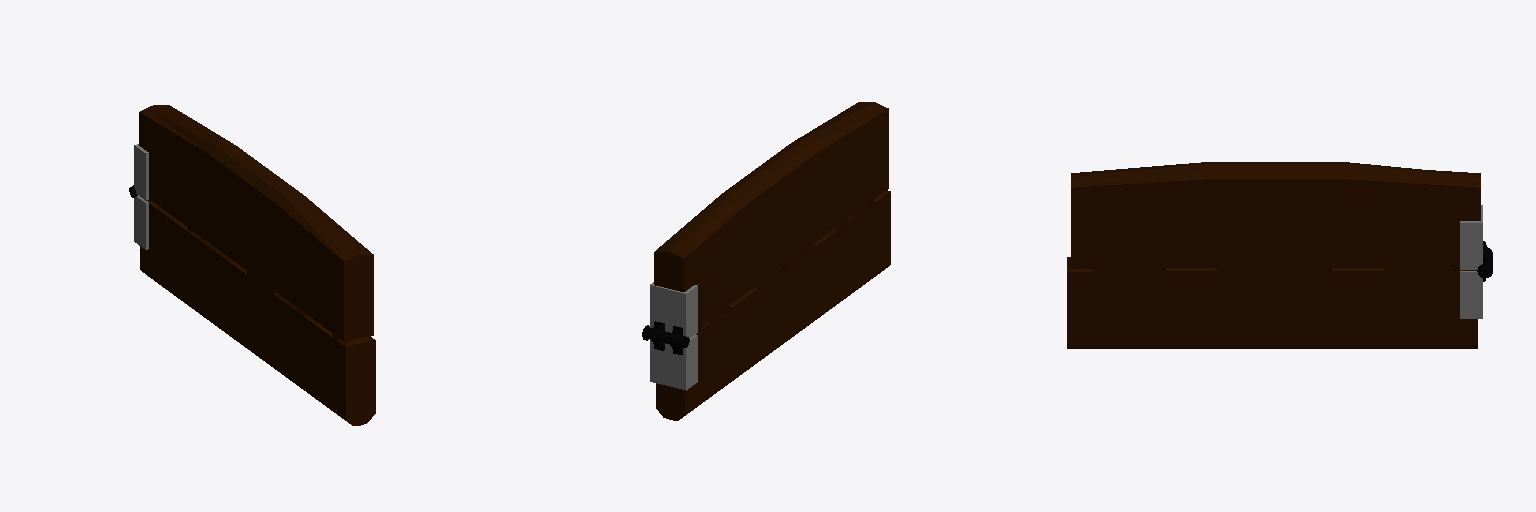
Rendered from Stockade.obj.
3 renders of one model, left to right at view 1: azimuth 30°, elevation 25°; view 2: azimuth 150°, elevation 25°; view 3: azimuth 270°, elevation 25°, orthographic.
Parts seen in each view (by area): view 1: pCube4, pCube6, pCube5, pCube7; view 2: pCube4, pCube6, pCube5, pCube7, pCylinder4; view 3: pCube4, pCube6, pCube5, pCube7.
Part boxes in pixels (x1,y1,x2,y2): pCube4: (139, 105, 373, 341); pCube6: (140, 199, 375, 425); pCube5: (134, 144, 148, 200); pCube7: (134, 195, 148, 249); pCube4: (654, 102, 888, 327); pCube6: (656, 190, 890, 420); pCube5: (650, 282, 697, 338); pCube7: (650, 334, 697, 390); pCylinder4: (642, 321, 689, 354); pCube4: (1071, 162, 1480, 268); pCube6: (1067, 257, 1477, 348); pCube5: (1460, 205, 1482, 269); pCube7: (1460, 271, 1482, 318).
Bounding box in the file's own units: 0.5144 × 2.11 × 4.46.